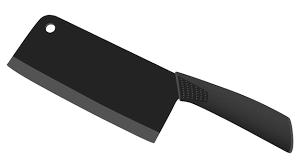Knife: (6, 14, 293, 153)
